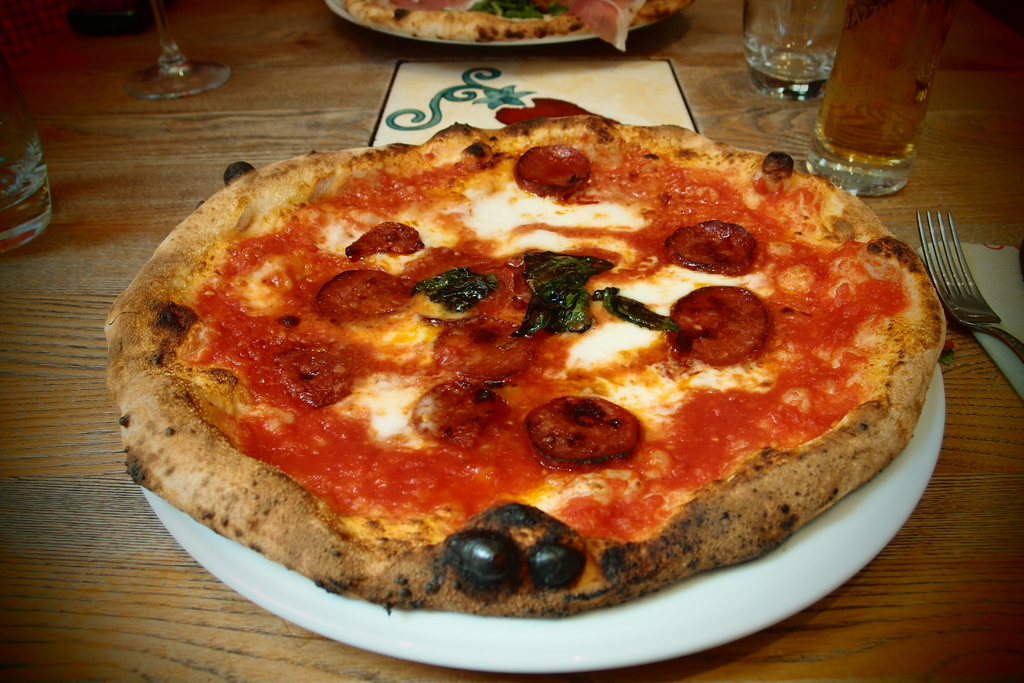pizza: (104, 119, 947, 617), (344, 0, 681, 50)
